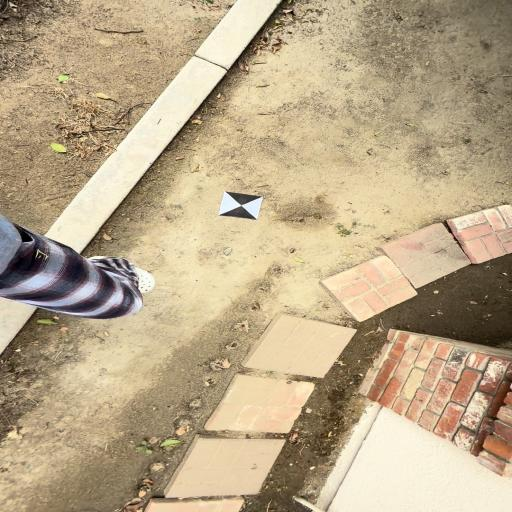target: (219, 192, 264, 220)
